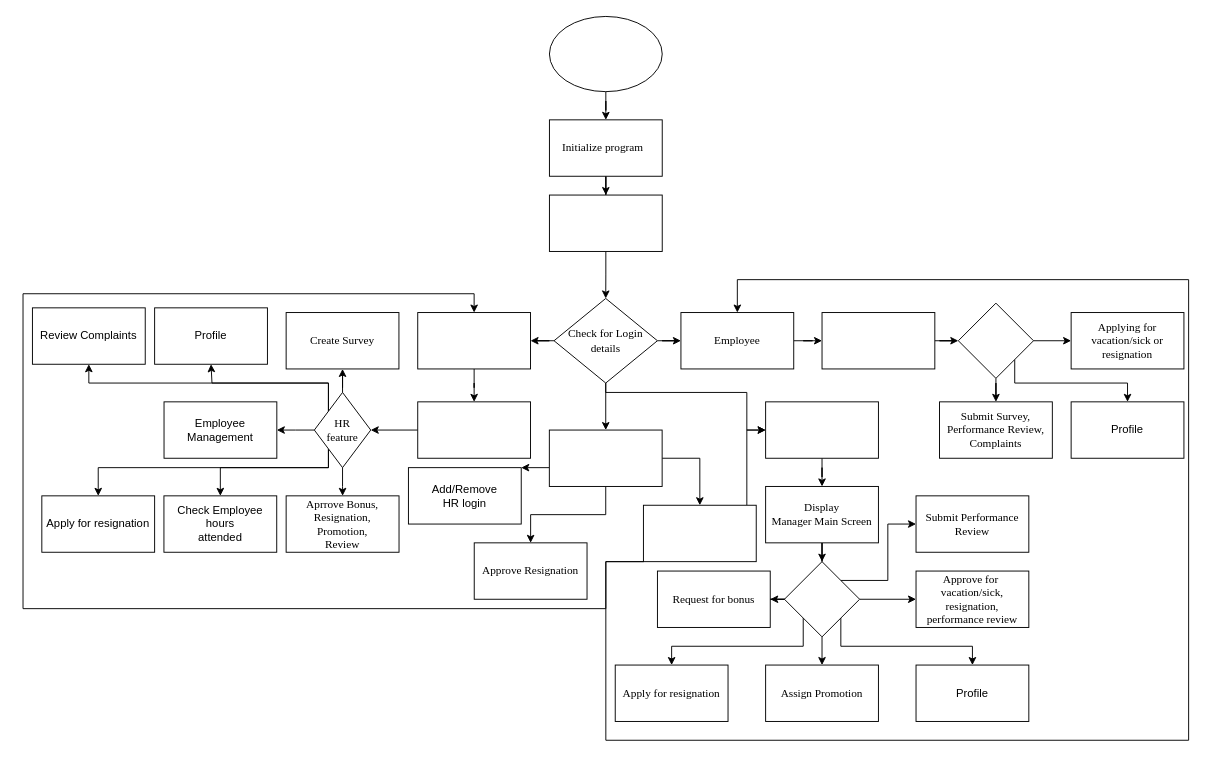
Some shapes in this 1213 by 764 pixel diagram are drawn without their labels. Each missing label, with the centre of its shape:
"Admin" belongs at (605,457).
"Display Employee Main Screen" belongs at (878,340).
"Display HR Main Screen" belongs at (474,429).
"Display Login Screen" belongs at (605,222).
"Employee Feature" belongs at (995,340).
"HR" belongs at (474,340).
"Login as other roles" belongs at (699,533).
"Manager" belongs at (821,429).
"Manager Features" belongs at (821,599).
"Start" belongs at (605,54).
